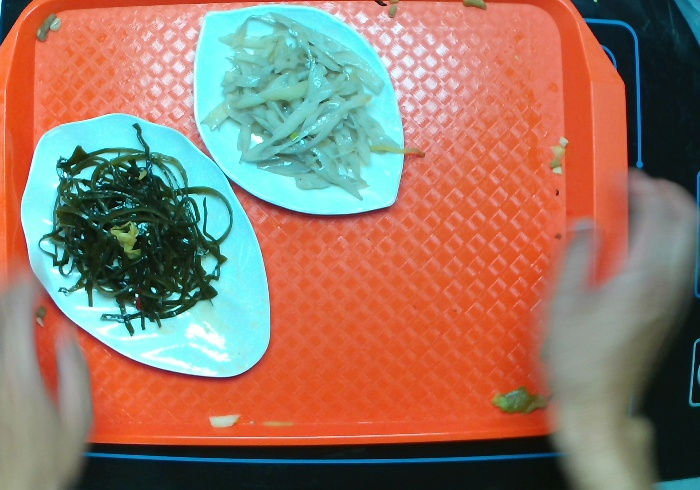RJxy-Bai_Ye_Pan: (16, 114, 275, 377)
RJxy-Da_Du_Pan: (190, 1, 409, 217)
